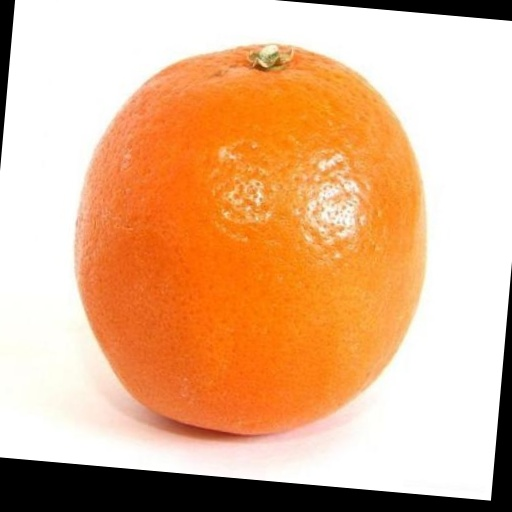fruit: (75, 46, 425, 434)
